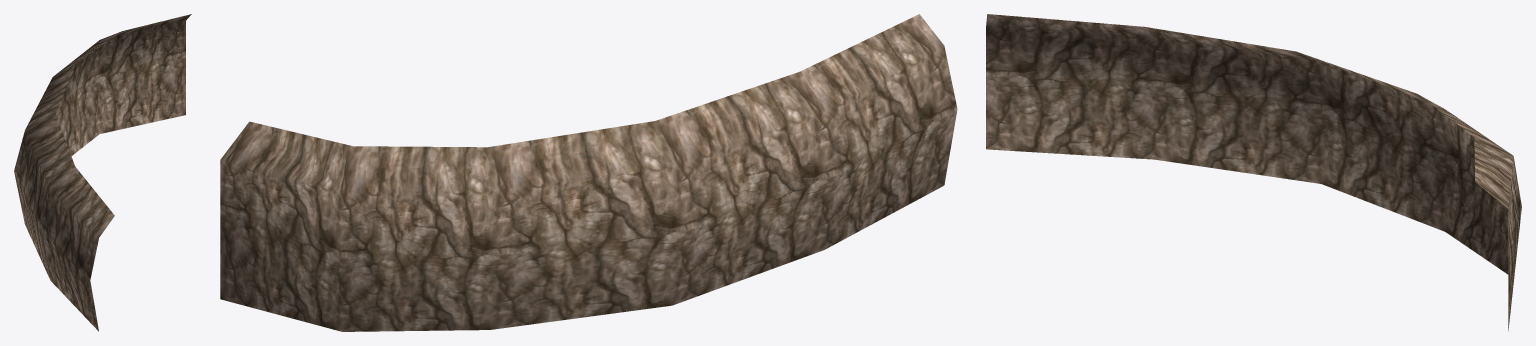
File: OVERHILL_A_01_OBJECT154.fbx
3 views of the same model, side by side, from view 1: azimuth 30°, elevation 25°; view 2: azimuth 150°, elevation 25°; view 3: azimuth 270°, elevation 25° (orthographic). The views are drawn at different scales.
Visible parts, largest first — view 1: OVERHILL_A_01_OBJECT154; view 2: OVERHILL_A_01_OBJECT154; view 3: OVERHILL_A_01_OBJECT154.
Boxes of the visible parts, x1,y1,x2,y2 form: OVERHILL_A_01_OBJECT154: (14, 14, 191, 331); OVERHILL_A_01_OBJECT154: (220, 14, 957, 331); OVERHILL_A_01_OBJECT154: (986, 14, 1521, 330).
Size of the model in its own units: 262408 by 95040 by 315809.
Materials: 1 (1 with a texture image).
